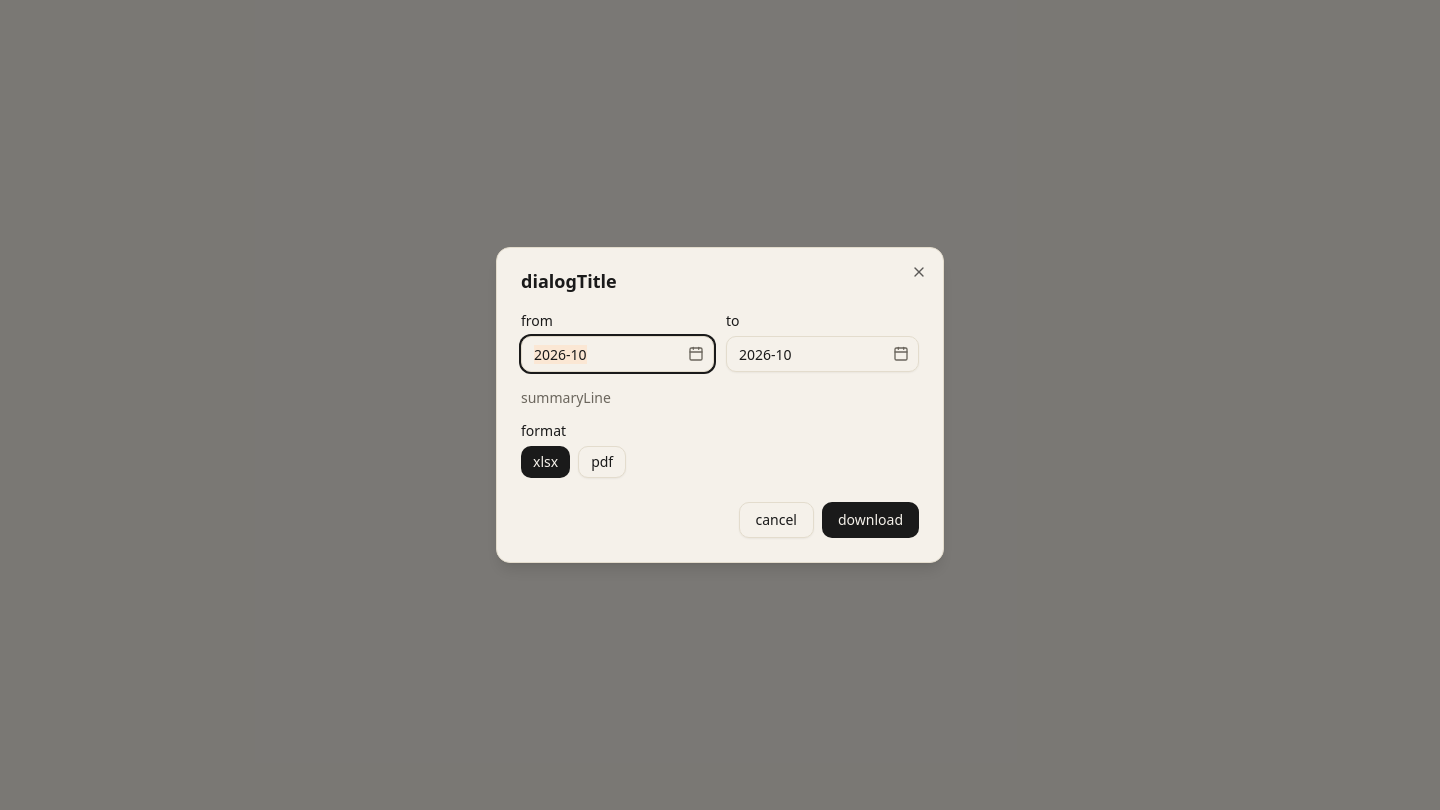
LaborExportDialog — range validation UI › enables download button for a valid range at boundary (24 months)
Replace the text in the field with id "export-from" with "2024-03" at (618, 354), box top-left (521, 336), bottom-right (714, 372)
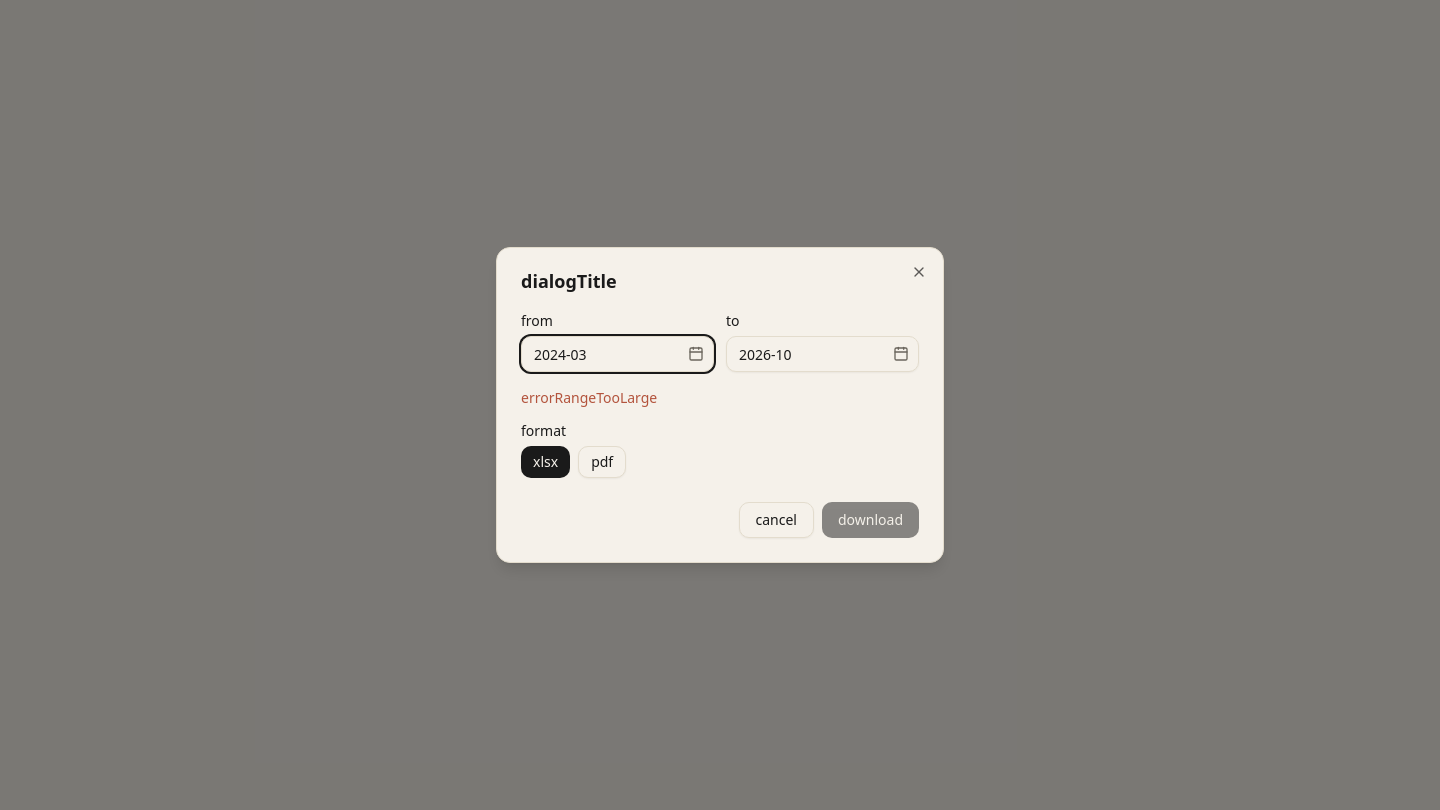
Replace the text in the field with id "export-to" with "2026-02" at (822, 354), box top-left (726, 336), bottom-right (919, 372)
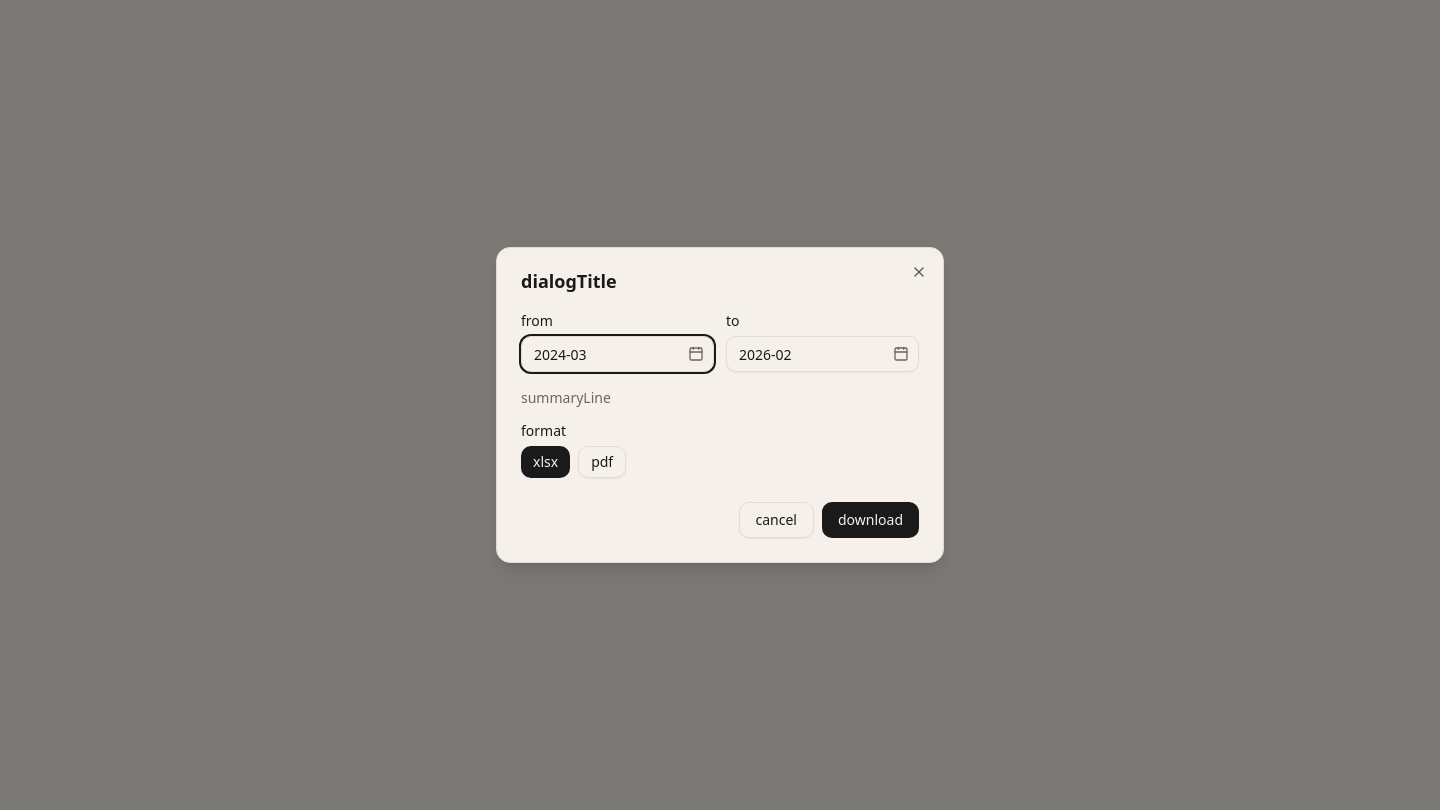
Expected: the message "errorRangeTooLarge" is gone
Expected: the button "download" is enabled, top-left (822, 502), bottom-right (919, 538)
